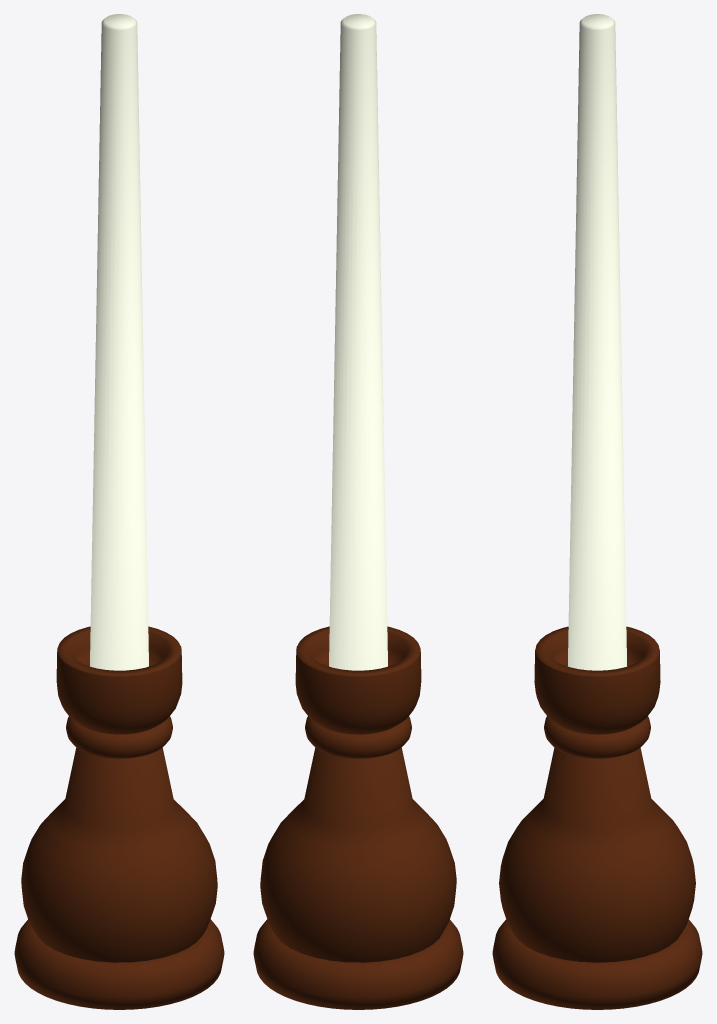
Rendered from Candle.fbx.
The picture shows the model from 3 angles, left to right: view 1: azimuth 30°, elevation 25°; view 2: azimuth 150°, elevation 25°; view 3: azimuth 270°, elevation 25°; orthographic projection.
Parts seen in each view (by area): view 1: Cube; view 2: Cube; view 3: Cube.
Part boxes in pixels (left/top/right/bottom): Cube: left=14, top=14, right=224, bottom=1009; Cube: left=253, top=14, right=463, bottom=1009; Cube: left=492, top=14, right=702, bottom=1009.
Size of the model in its own units: 120 by 595 by 120.
